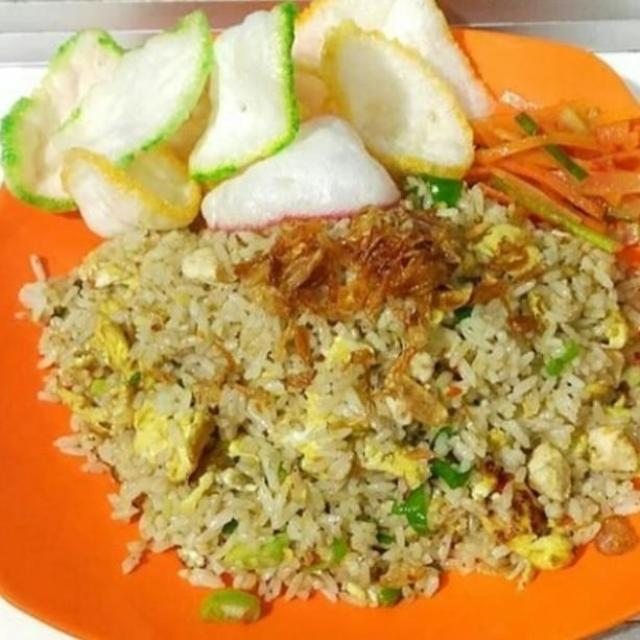Nasi Goreng: (0, 210, 640, 609)
